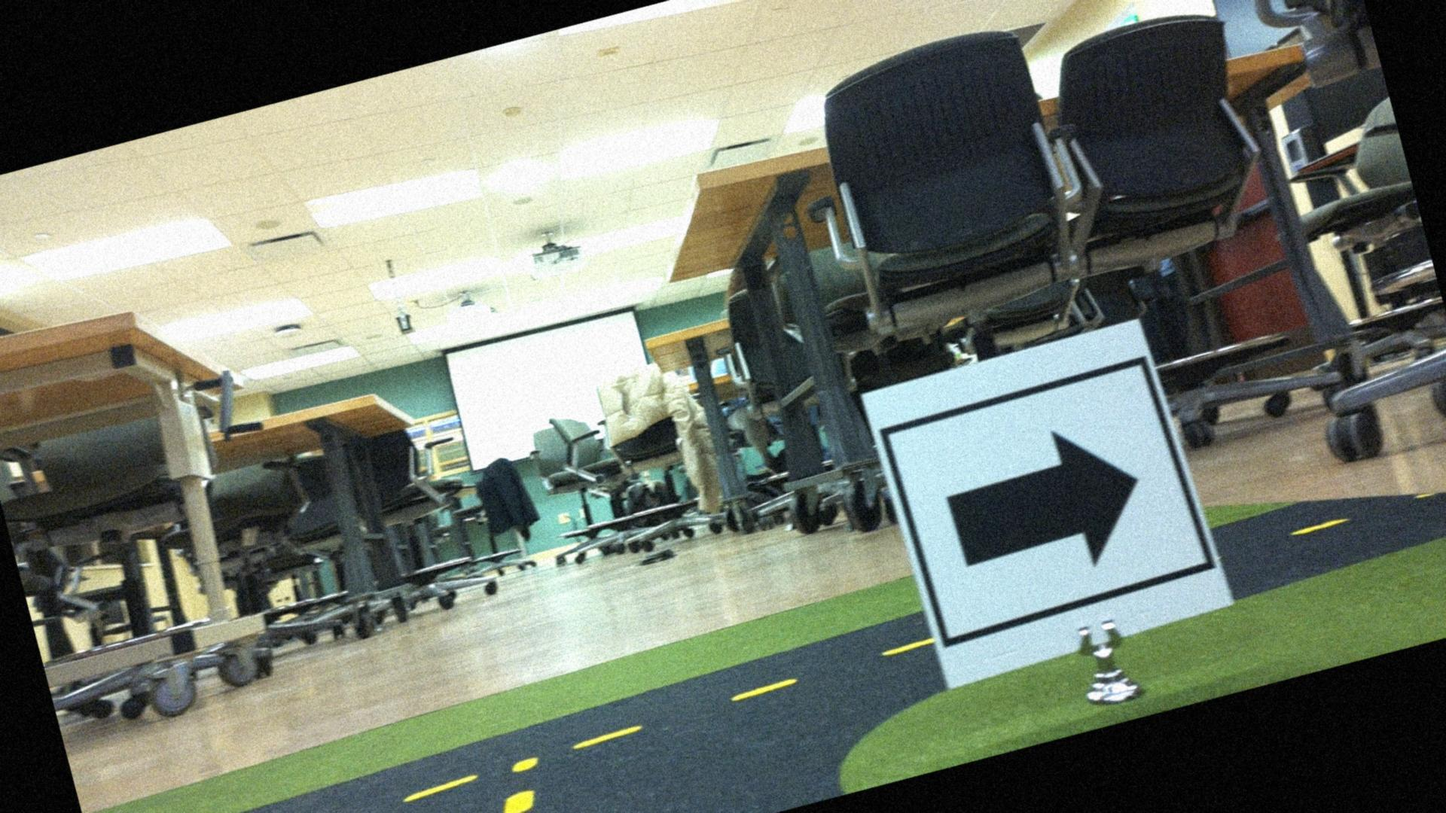turnleft: (873, 325, 1210, 683)
yellowline: (93, 638, 935, 812), (474, 787, 549, 812)
